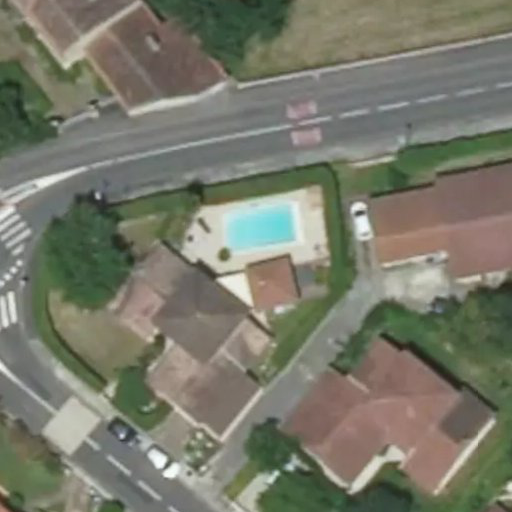pool: (211, 228, 300, 255)
